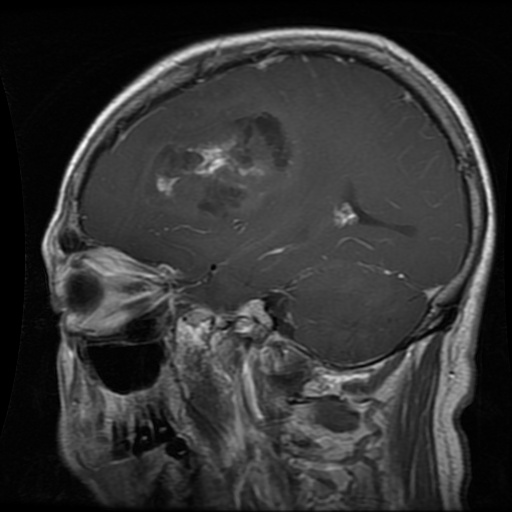glioma: (143, 115, 308, 222)
